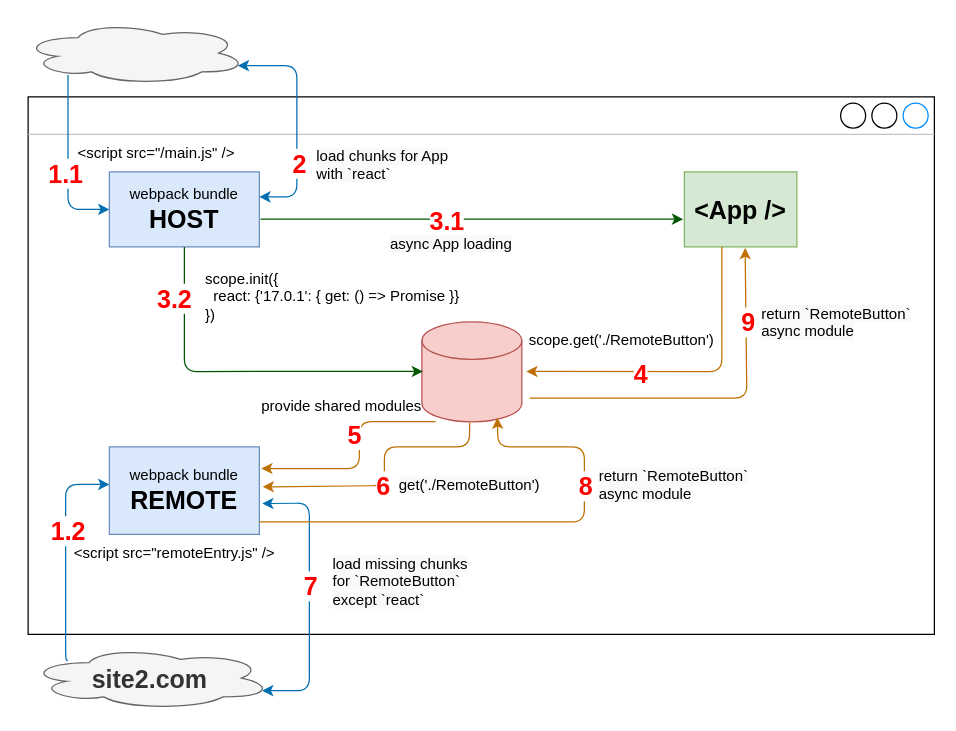
Image size: 956x731. Some labels were removed from this diagram. The shapes that lost their labels are listed below. From the top down, each one's box as (x1, y1, x2, y2) in pixels, then its label:
(21, 21, 247, 84): site1.com
(421, 321, 522, 422): scope
